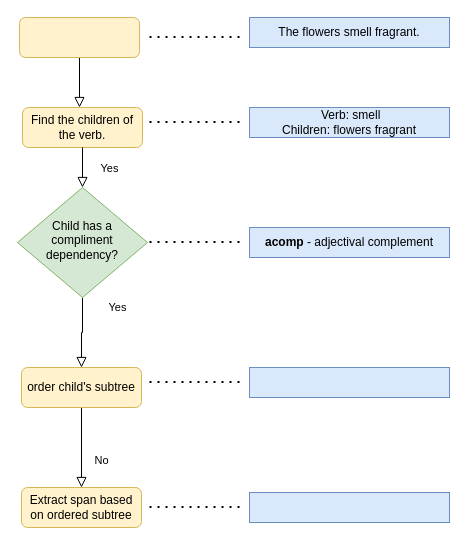
Some shapes in this 467 by 545 pixel diagram are drawn without their labels. The centre of each missing label's shape, as x and y in pixels:
"Find the verbs in the sentence." belongs at (x=79, y=37).
"fragrant" belongs at (x=349, y=382).
"The flowers smell fragrant ." belongs at (x=349, y=507).
